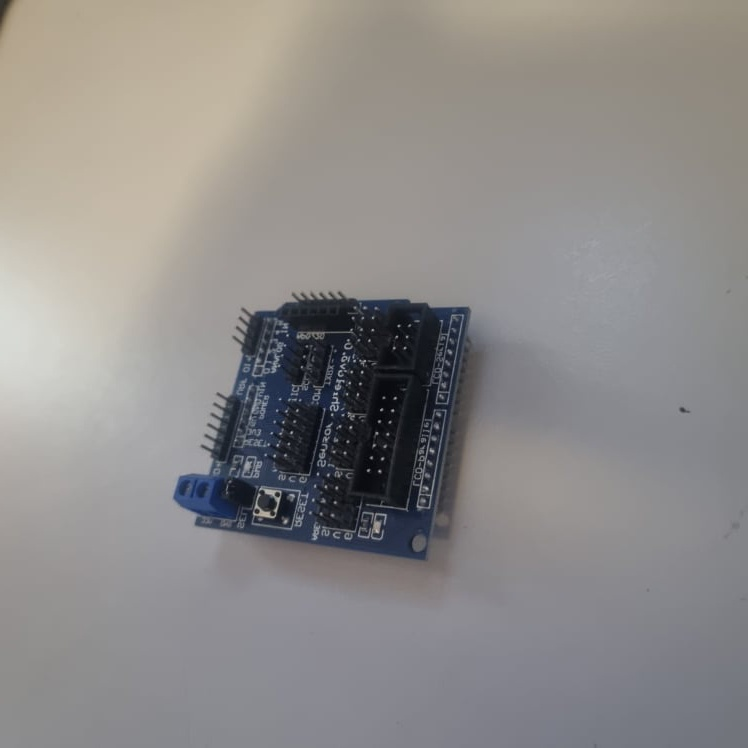5V EXPANSION: (168, 291, 475, 561)
